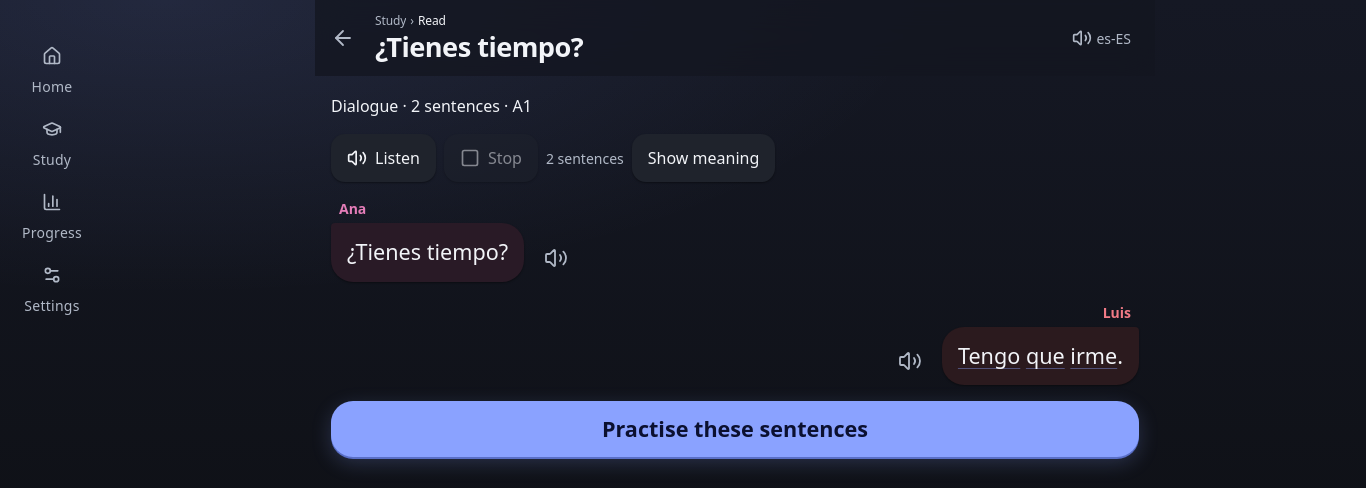
Test: reading a passage aloud › offers one line on its own, and carries on from a line once it is reading
Check: the heading "¿Tienes tiempo?" is shown, box [375,28,583,65]
Nothing playing: a line's button is that line, and nothing after it.
What coordinates should you click on to do the following:
click the button named "Listen to “Tengo que irme.”"
I would click on:
 (910, 361)
Its box is [886,337,934,385].
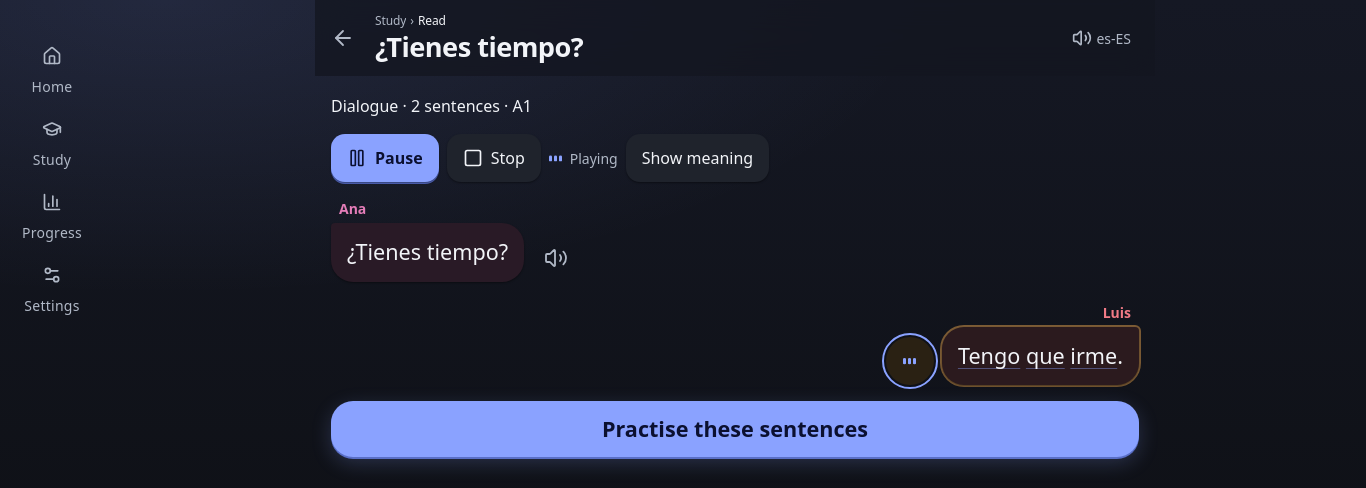
Check: the text "Sentence " is not shown
What coordinates should you click on to do the following:
click the button "Stop"
I would click on:
 (494, 158)
Its box is [447,134,541,182].
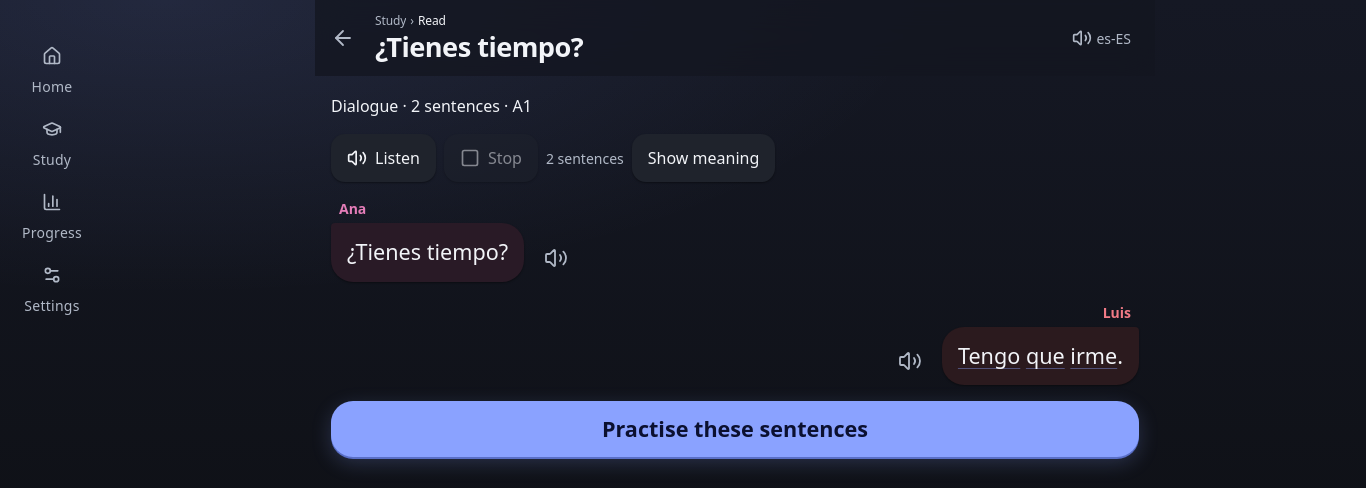
What coordinates should you click on to do the following:
click the button "Listen"
I would click on:
 (383, 158)
Its box is [331,134,436,182].
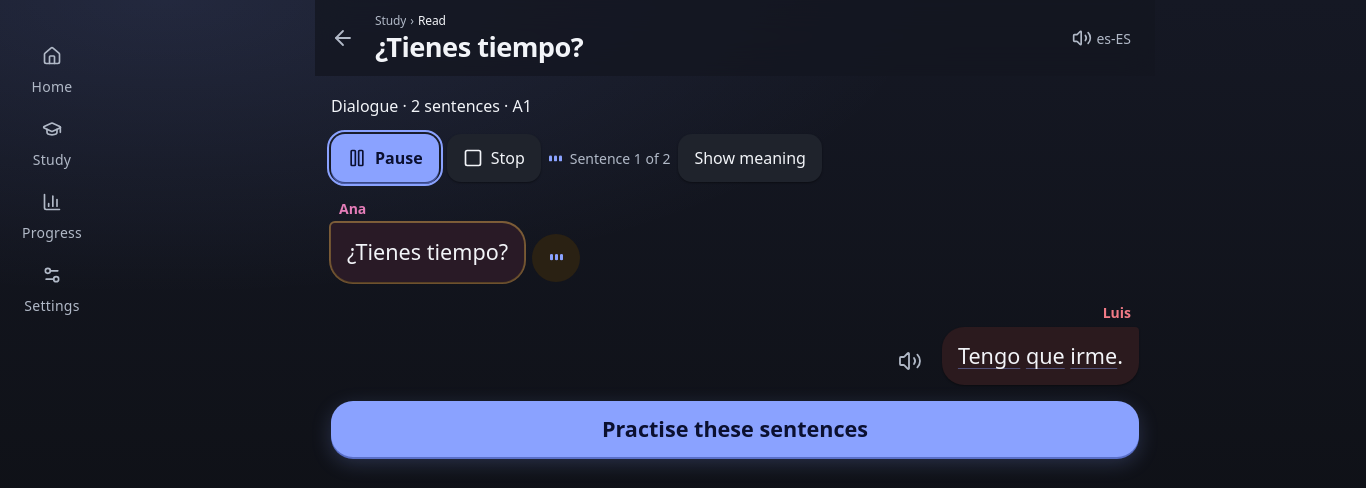
What coordinates should you click on to do the following:
click the button named "Play from “Tengo que irme.”"
I would click on:
 (910, 361)
Its box is [886,337,934,385].
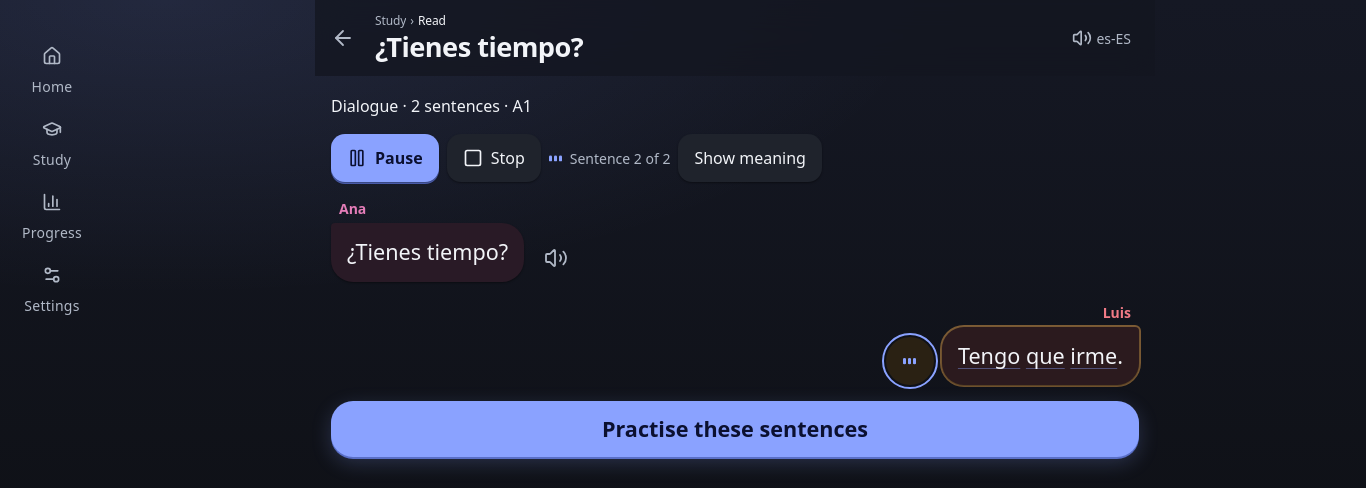
Check: the element showing "Tengo que irme ." is shown, box [958,338,1123,373]
Check: the text "Sentence 2 of 2" is shown, box [549,148,670,168]
